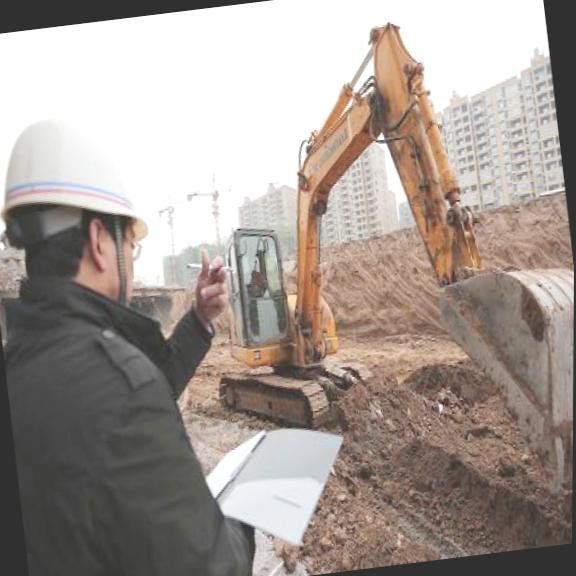no_safety_vest: (0, 290, 231, 576)
